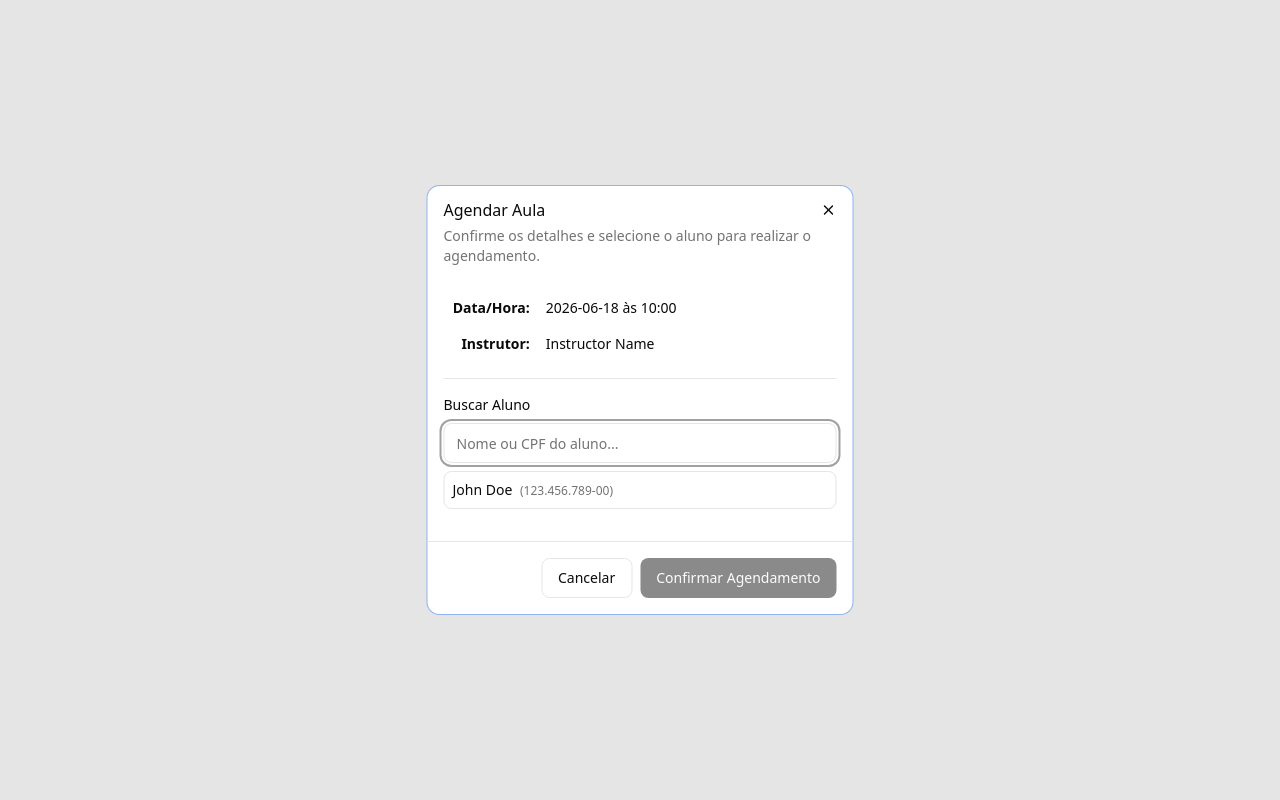
Test case: BookSlotDialog Component › BookSlotDialog_OnConflict409_ShowsInlineError
The width and height of the screenshot is (1280, 800).
Click the button "John Doe (123.456.789-00)".
click(482, 490)  # box [444,472,836,508]
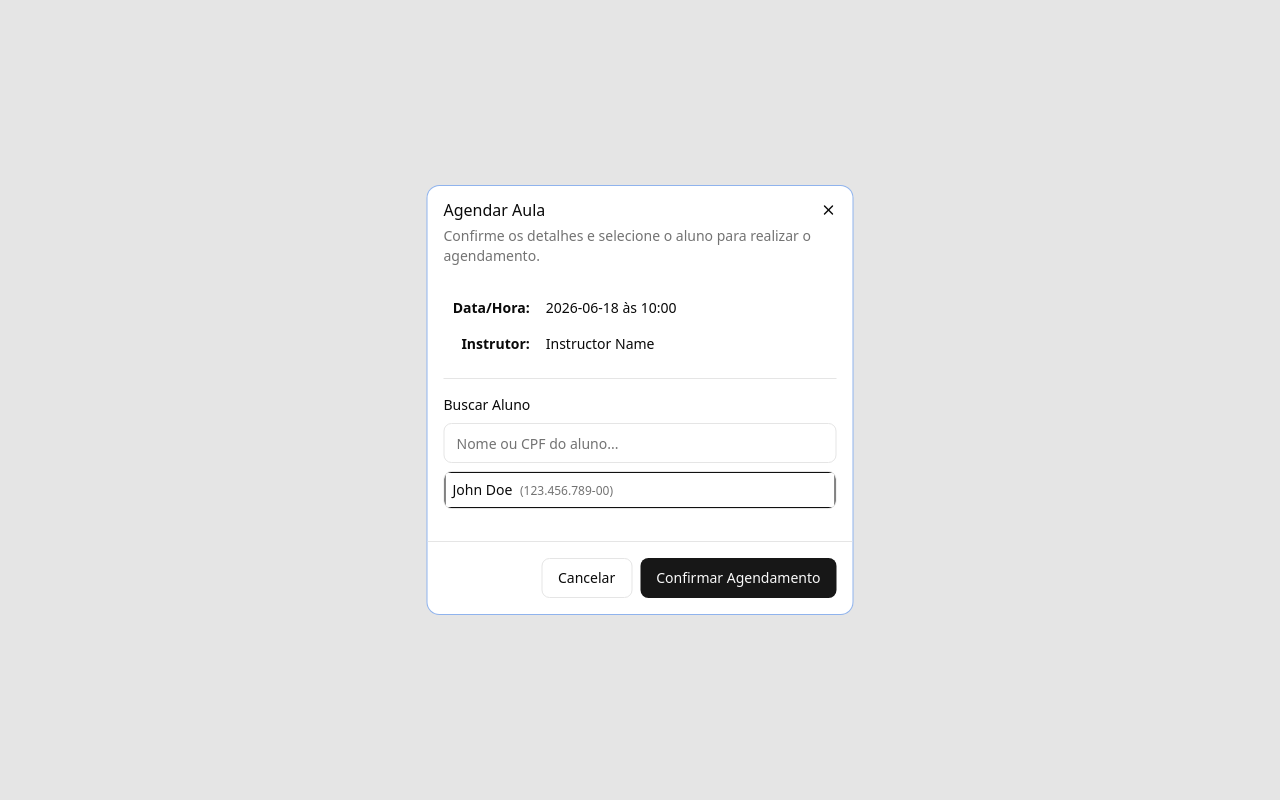
// Click confirm
Click the button "Confirmar Agendamento".
click(738, 578)  # box [640,558,836,598]
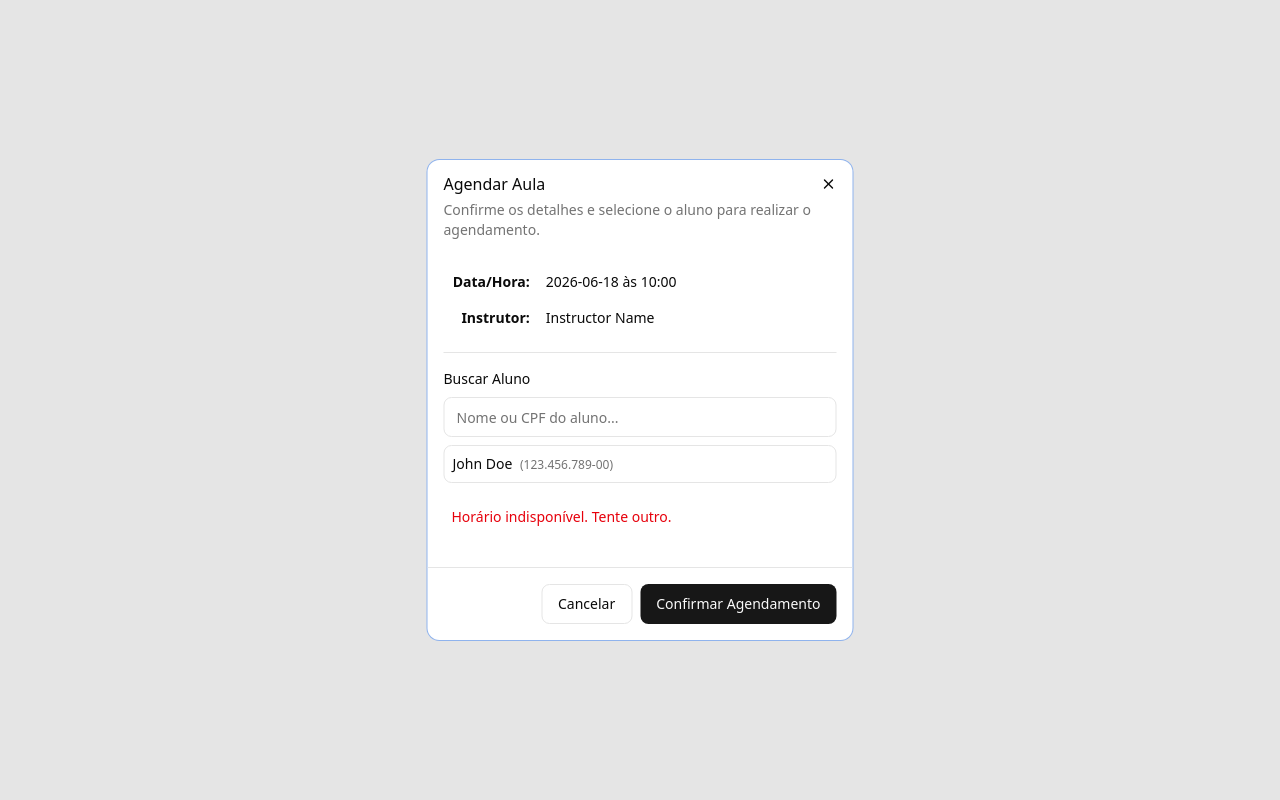
Check: the text "Horário indisponível. Tente outro." is shown, box [452,507,672,526]
